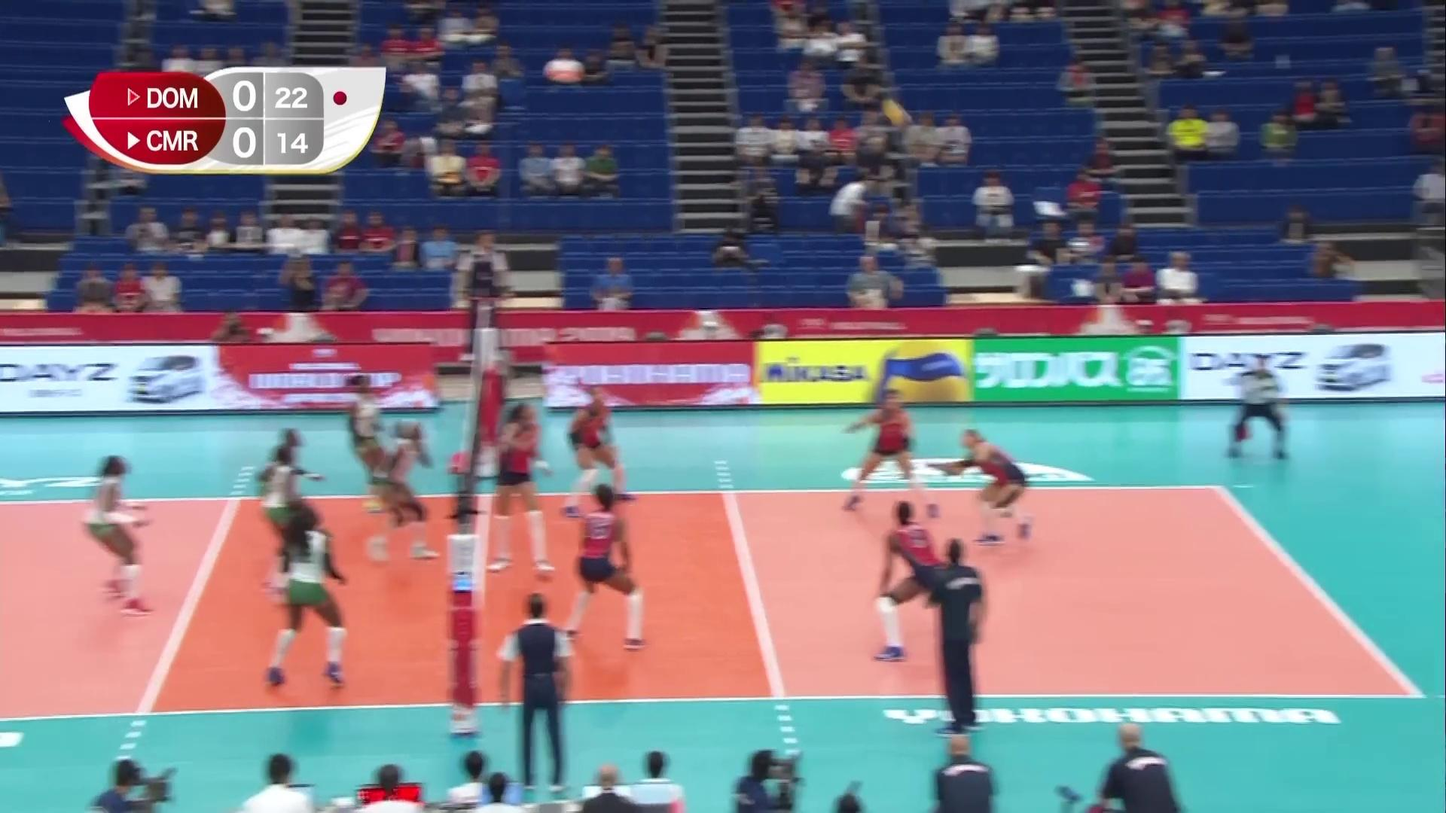player: (865, 508, 971, 660), (270, 508, 349, 687), (567, 485, 650, 651), (84, 455, 155, 615), (938, 427, 1031, 540), (493, 405, 553, 577), (560, 387, 640, 516), (264, 431, 326, 582), (371, 421, 437, 560), (844, 390, 914, 513), (263, 450, 319, 603), (348, 378, 408, 517)
refree: (499, 592, 571, 791), (458, 230, 511, 367), (1227, 353, 1289, 460)
